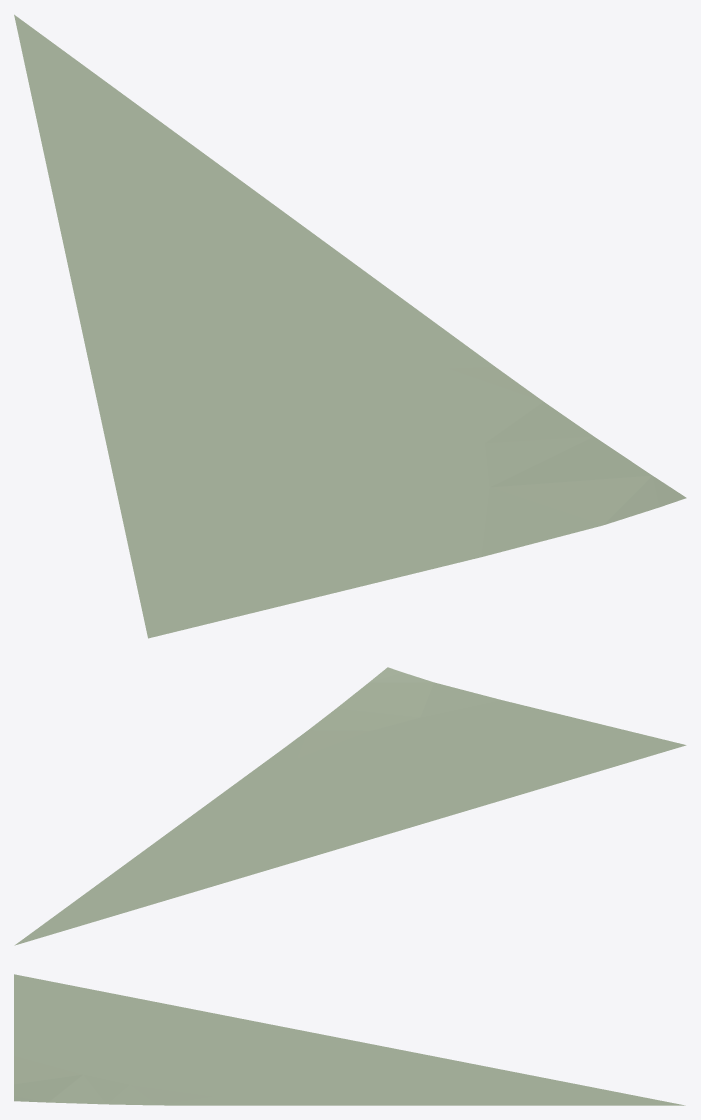
Rendered from SM_MPRR_Terrain_-4_3.fbx.
3 views of the same model, one above another, from view 1: azimuth 30°, elevation 25°; view 2: azimuth 150°, elevation 25°; view 3: azimuth 270°, elevation 25° (orthographic). The views are drawn at different scales.
Parts seen in each view (by area): view 1: SM_MPRR_Terrain_-4_3; view 2: SM_MPRR_Terrain_-4_3; view 3: SM_MPRR_Terrain_-4_3.
Boxes of the visible parts, x1,y1,x2,y2 form: SM_MPRR_Terrain_-4_3: (14,14,686,638); SM_MPRR_Terrain_-4_3: (14,667,686,945); SM_MPRR_Terrain_-4_3: (14,974,685,1105).
Bounding box in the file's own units: 4557 × 9856 × 72.93.
